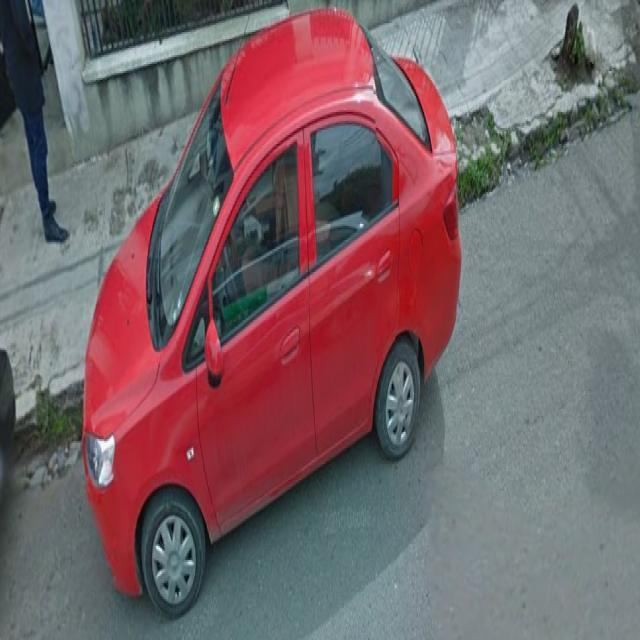truck: (86, 24, 462, 600)
